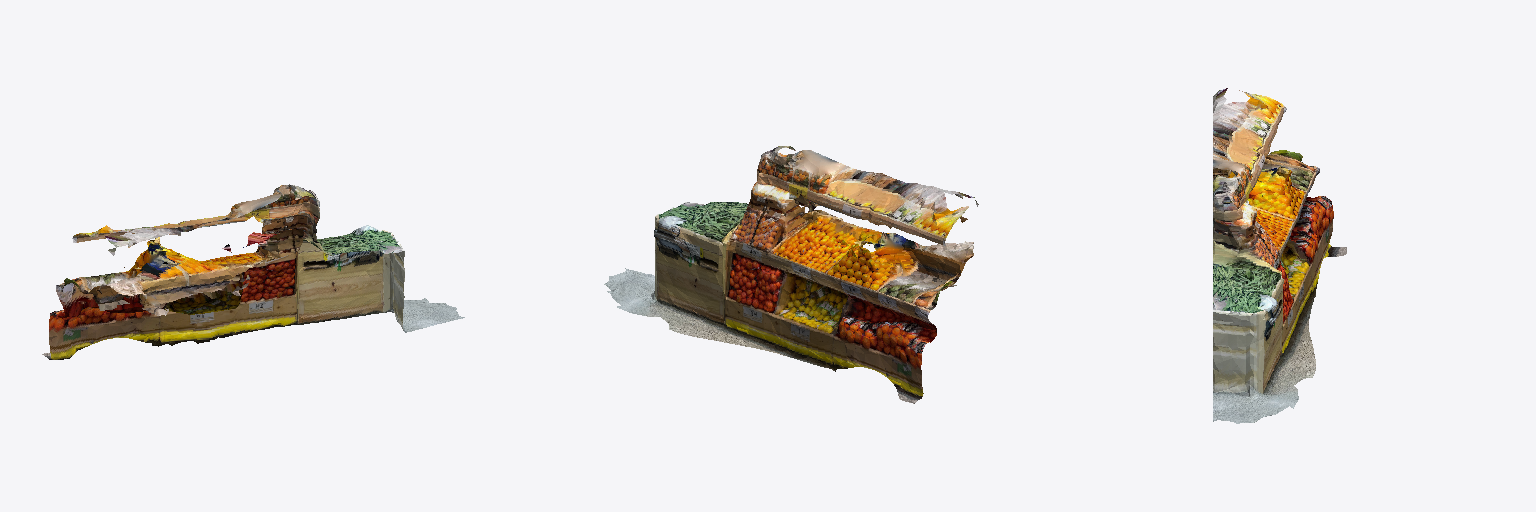
3 views of the same model, side by side, from view 1: azimuth 30°, elevation 25°; view 2: azimuth 150°, elevation 25°; view 3: azimuth 270°, elevation 25° (orthographic).
Size of the model in its own units: 3.56 by 1.6 by 1.15.
2 materials, 2 textured.